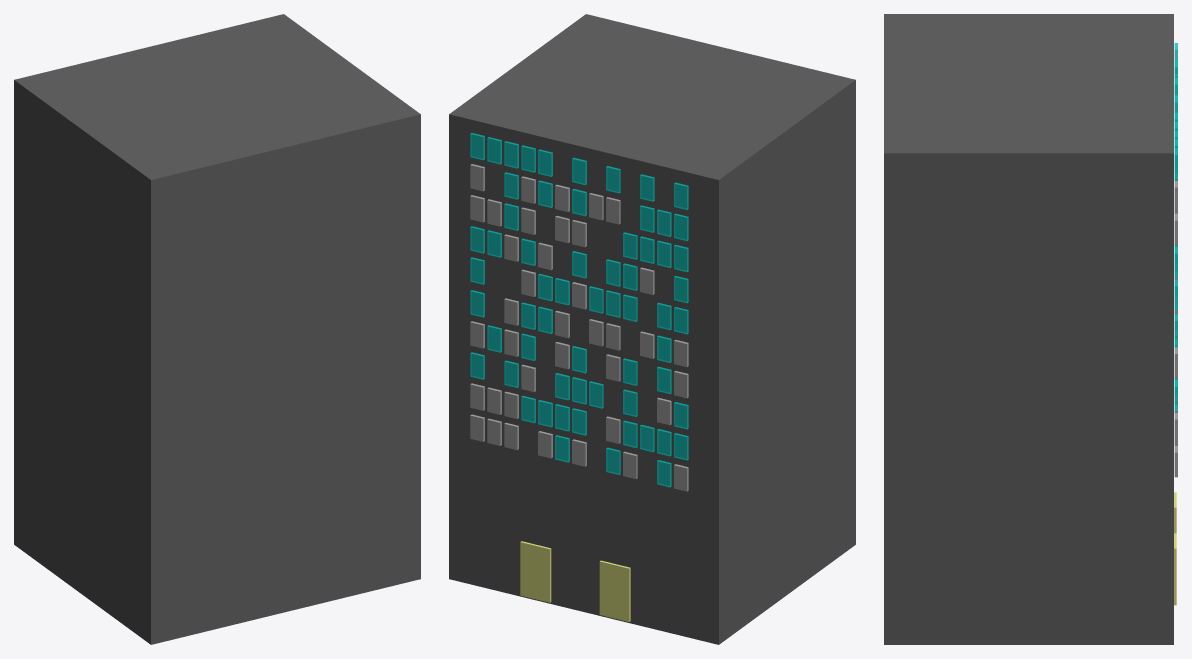
File: LargeBuilding_01_ZB.fbx
3 renders of one model, left to right at view 1: azimuth 30°, elevation 25°; view 2: azimuth 150°, elevation 25°; view 3: azimuth 270°, elevation 25°, orthographic. The views are drawn at different scales.
Visible parts, largest first — view 1: polySurface2677; view 2: polySurface2677, polySurface2684, polySurface2687; view 3: polySurface2677.
Boxes of the visible parts, <box> form: polySurface2677: <box>14,14,420,644</box>; polySurface2677: <box>449,14,855,644</box>; polySurface2684: <box>520,541,551,602</box>; polySurface2687: <box>599,560,630,621</box>; polySurface2677: <box>884,14,1173,644</box>.
Bounding box in the file's own units: 14.06 × 23.16 × 12.54.
